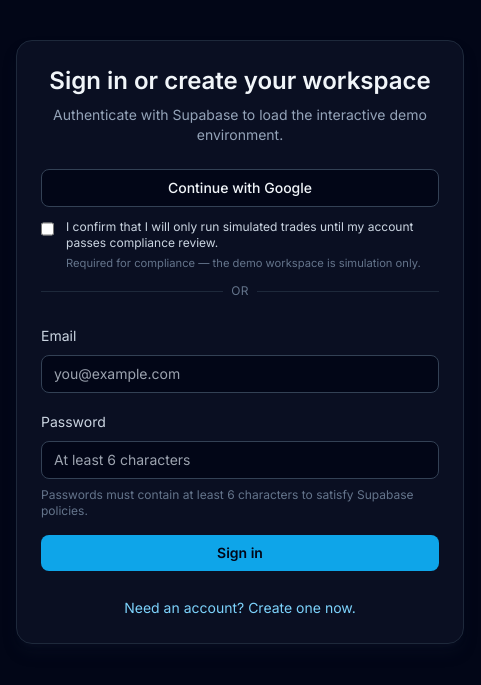
Test: AuthForm OAuth consent › blocks OAuth sign-in until consent checkbox is checked
Step 1. Click the button "Continue with Google" → (240,188), box [41,169,439,207]
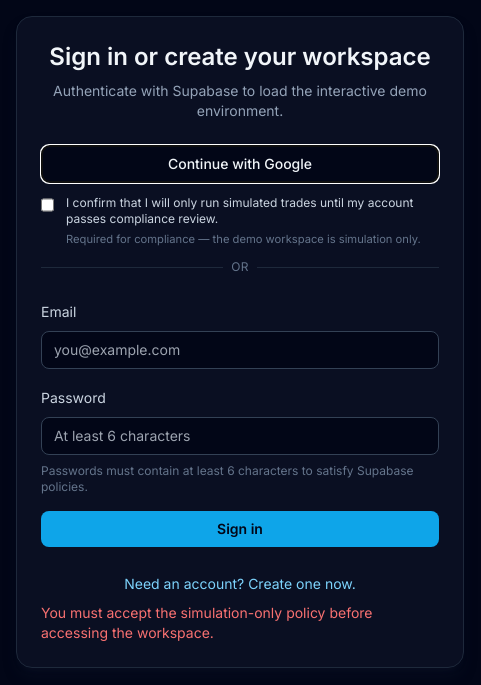
Check: the text "You must accept the simulation-only policy before accessing the workspace." is shown, box [41,604,372,641]
